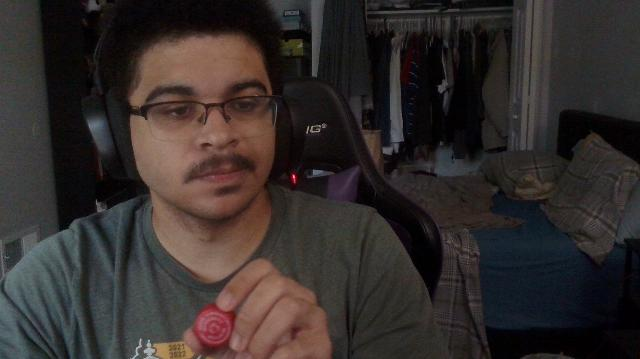cap: (194, 304, 236, 348)
